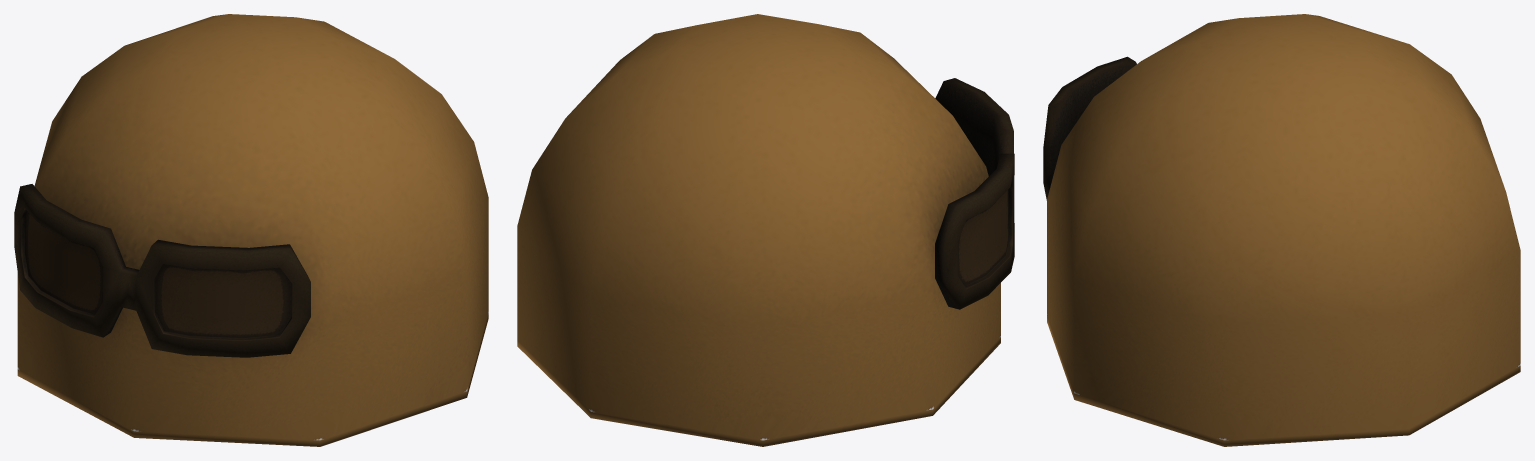
The model's file is Android_head_brown.dae.
3 renders of one model, left to right at view 1: azimuth 30°, elevation 25°; view 2: azimuth 150°, elevation 25°; view 3: azimuth 270°, elevation 25°, orthographic.
Parts seen in each view (by area): view 1: Head, Glasses; view 2: Head, Glasses; view 3: Head, Glasses.
Boxes of the visible parts, x1,y1,x2,y2 form: Head: [17, 14, 488, 446]; Glasses: [14, 184, 310, 357]; Head: [517, 14, 1000, 446]; Glasses: [935, 78, 1014, 309]; Head: [1047, 14, 1520, 446]; Glasses: [1043, 56, 1136, 200].
Size of the model in its own units: 2.03 by 1.95 by 1.38.
Materials: 3 (3 with a texture image).
